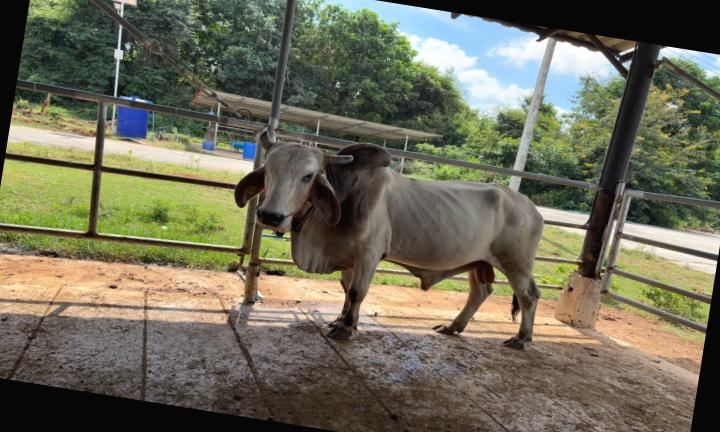Brahman: (235, 131, 543, 347)
